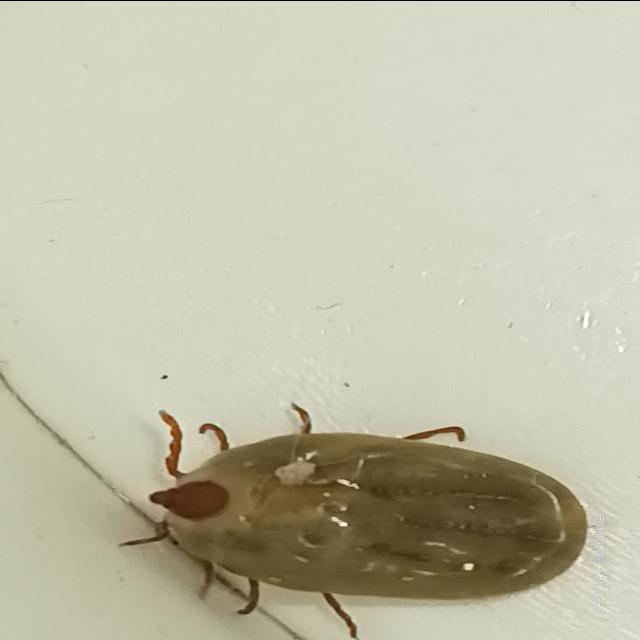Rhipicephalus Sanguineus-F-Fed: (149, 404, 590, 634)
